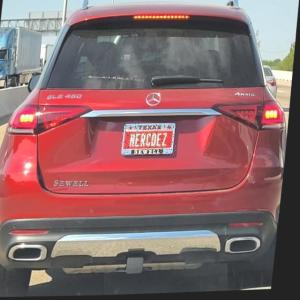Plate: (122, 124, 176, 155)
